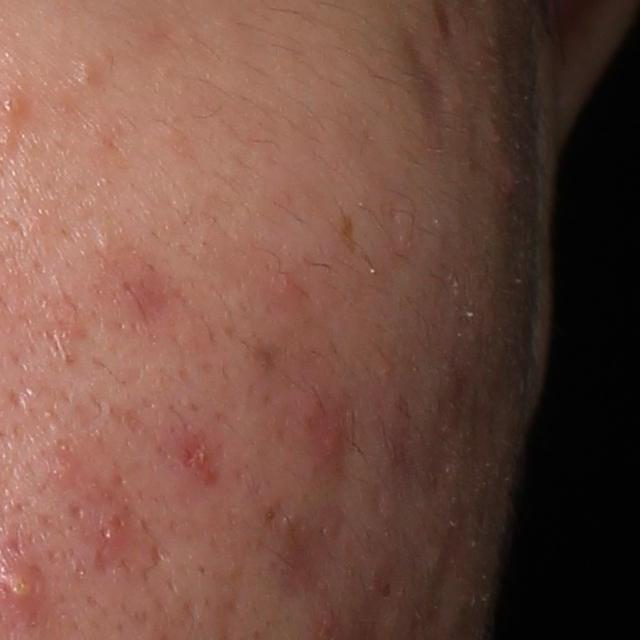atrophic_scar: (394, 26, 457, 144)
comedo: (75, 62, 98, 86)
melasma: (336, 208, 358, 251)
papule: (80, 486, 145, 562), (315, 415, 354, 458)
pustule: (4, 557, 51, 606)
